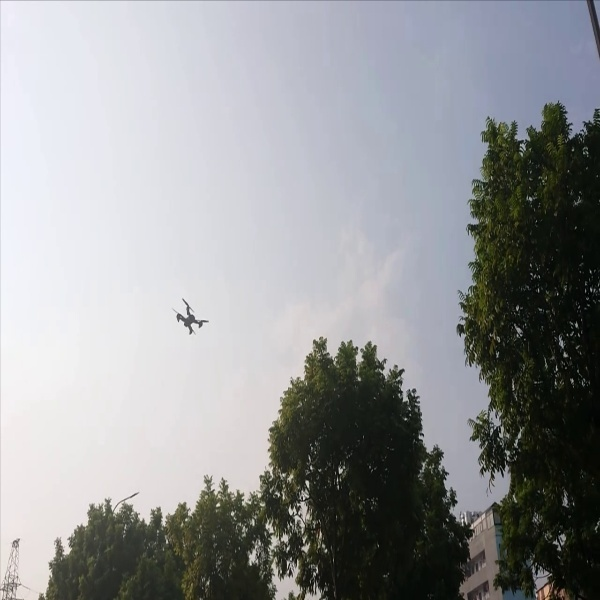drone: (162, 295, 214, 340)
